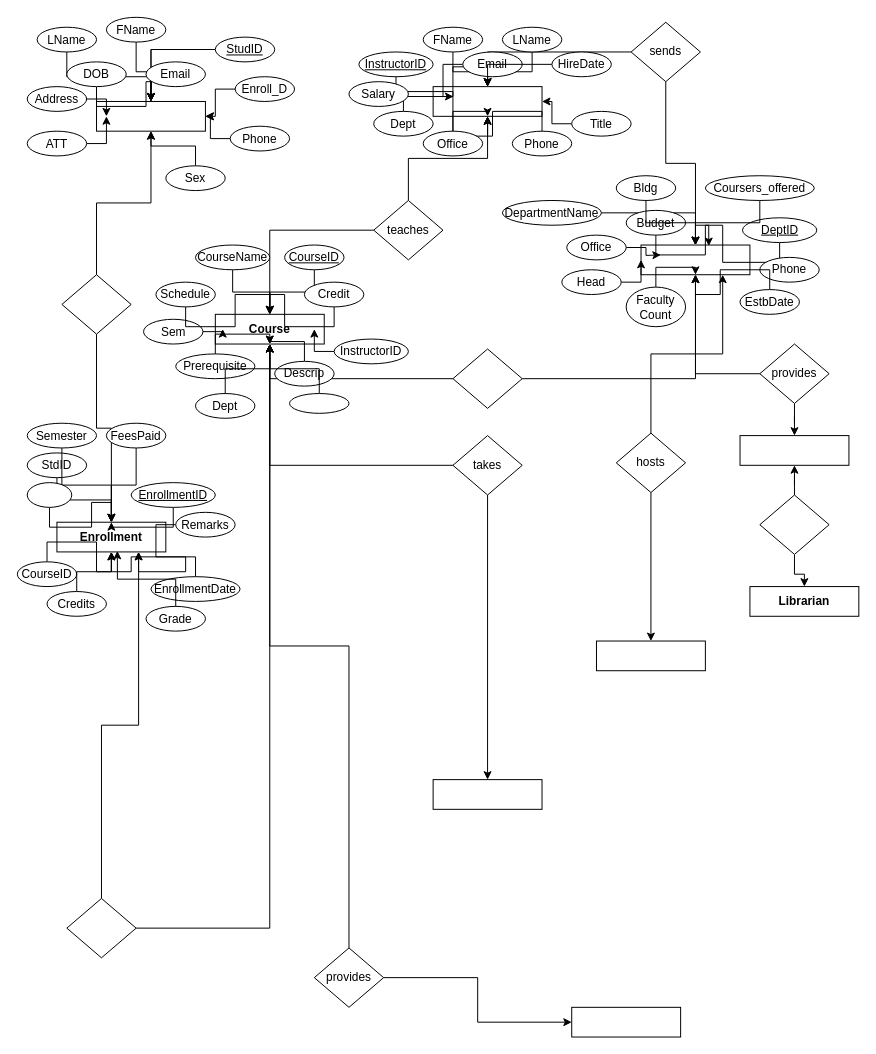
The diagram is 876 pixels wide and 1054 high, and some of its shapes have lost their labels. Each missing label, with the centre of its shape:
"Classroom" goes at point (487, 794).
"CourseMaterial" goes at point (626, 1021).
"Department" goes at point (695, 259).
"Event" goes at point (650, 655).
"has" goes at point (794, 524).
"Instructor" goes at point (487, 101).
"joins" goes at point (96, 304).
"Library" goes at point (794, 450).
"MaxEnroll" goes at point (319, 403).
"offers" goes at point (487, 378).
"proceeds" goes at point (101, 927).
"Status" goes at point (49, 494).
"Student" goes at point (150, 115).
